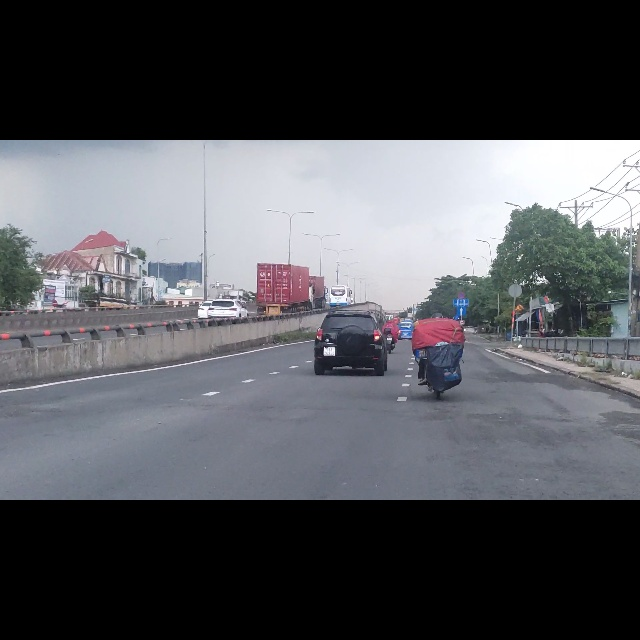bien_cam: (457, 296, 466, 312), (458, 270, 465, 282)
